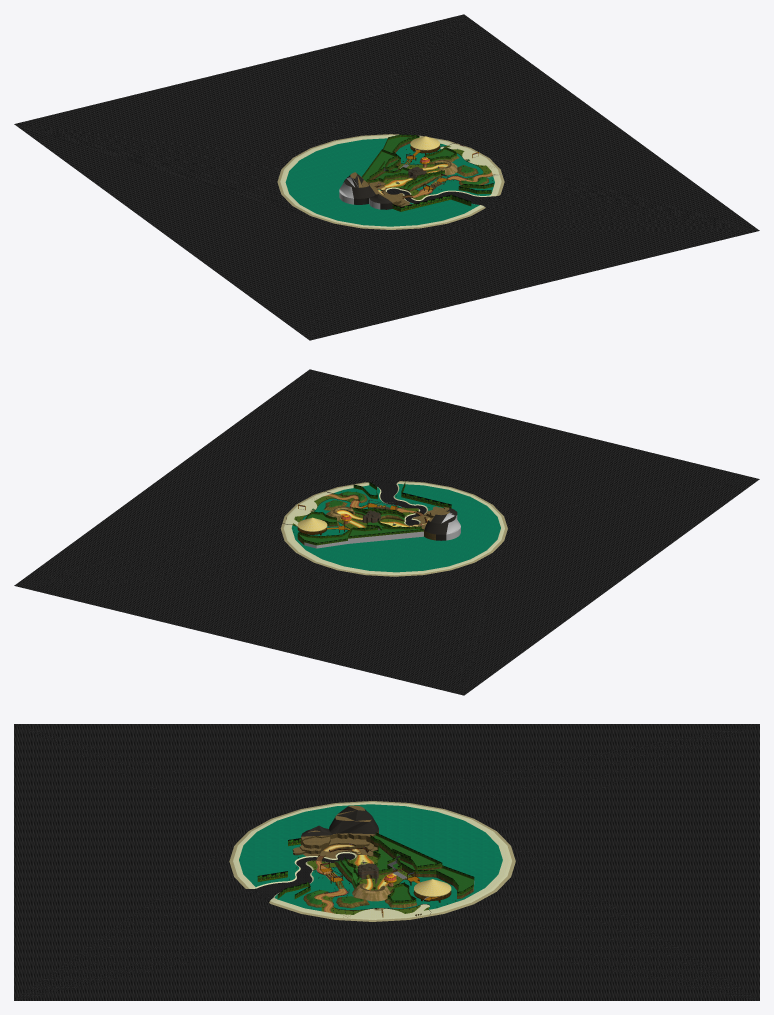
3 renders of one model, top to bottom at view 1: azimuth 30°, elevation 25°; view 2: azimuth 150°, elevation 25°; view 3: azimuth 270°, elevation 25°, orthographic. The views are drawn at different scales.
Parts seen in each view (by area): view 1: Castaway_Isle_Model-GRP-797622-OOB_Water, Castaway_Isle_Model-SKP--OOB_Grass__, Castaway_Isle_Model-SKP--Sand_Road, Castaway_Isle_Model-SKP--Forest_Background, Castaway_Isle_Model-SKP--OOB_BorderGrass, Castaway_Isle_Model-SKP--Sand_Offroad, Castaway_Isle_Model-SKP--Rock_Wall_2, Castaway_Isle_Model-SKP--Cave_Roof, Castaway_Isle_Model-SKP--OOB_Water; view 2: Castaway_Isle_Model-GRP-797622-OOB_Water, Castaway_Isle_Model-SKP--OOB_Grass__, Castaway_Isle_Model-SKP--Sand_Road, Castaway_Isle_Model-SKP--Forest_Background, Castaway_Isle_Model-SKP--Sand_Offroad, Castaway_Isle_Model-SKP--Default_Material, Castaway_Isle_Model-SKP--OOB_BorderGrass, Castaway_Isle_Model-SKP--OOB_Water; view 3: Castaway_Isle_Model-GRP-797622-OOB_Water, Castaway_Isle_Model-SKP--OOB_Grass__, Castaway_Isle_Model-SKP--Sand_Road, Castaway_Isle_Model-SKP--Forest_Background, Castaway_Isle_Model-SKP--OOB_BorderGrass, Castaway_Isle_Model-SKP--Sand_Offroad, Castaway_Isle_Model-SKP--Rock_Wall_2, Castaway_Isle_Model-SKP--Cave_Roof, Castaway_Isle_Model-SKP--Mud_Road, Castaway_Isle_Model-SKP--OOB_Water, Castaway_Isle_Model-SKP--Offroad_Grass, Castaway_Isle_Model-SKP--Rock_Wall (+1 smaller).
Boxes of the visible parts, <box> form: Castaway_Isle_Model-GRP-797622-OOB_Water: <box>14,14,759,340</box>; Castaway_Isle_Model-SKP--OOB_Grass__: <box>285,138,494,226</box>; Castaway_Isle_Model-SKP--Sand_Road: <box>280,135,500,228</box>; Castaway_Isle_Model-SKP--Forest_Background: <box>362,134,493,211</box>; Castaway_Isle_Model-SKP--OOB_BorderGrass: <box>363,137,486,190</box>; Castaway_Isle_Model-SKP--Sand_Offroad: <box>277,134,504,229</box>; Castaway_Isle_Model-SKP--Rock_Wall_2: <box>367,140,489,191</box>; Castaway_Isle_Model-SKP--Cave_Roof: <box>343,168,392,209</box>; Castaway_Isle_Model-SKP--OOB_Water: <box>387,188,499,207</box>; Castaway_Isle_Model-GRP-797622-OOB_Water: <box>14,369,759,695</box>; Castaway_Isle_Model-SKP--OOB_Grass__: <box>291,484,500,572</box>; Castaway_Isle_Model-SKP--Sand_Road: <box>285,482,504,575</box>; Castaway_Isle_Model-SKP--Forest_Background: <box>297,482,451,545</box>; Castaway_Isle_Model-SKP--Sand_Offroad: <box>280,481,507,576</box>; Castaway_Isle_Model-SKP--Default_Material: <box>304,512,460,548</box>; Castaway_Isle_Model-SKP--OOB_BorderGrass: <box>299,491,421,542</box>; Castaway_Isle_Model-SKP--OOB_Water: <box>368,480,426,525</box>; Castaway_Isle_Model-GRP-797622-OOB_Water: <box>14,724,759,1000</box>; Castaway_Isle_Model-SKP--OOB_Grass__: <box>239,804,502,911</box>; Castaway_Isle_Model-SKP--Sand_Road: <box>233,802,511,919</box>; Castaway_Isle_Model-SKP--Forest_Background: <box>257,832,474,903</box>; Castaway_Isle_Model-SKP--OOB_BorderGrass: <box>307,835,473,904</box>; Castaway_Isle_Model-SKP--Sand_Offroad: <box>229,801,515,921</box>; Castaway_Isle_Model-SKP--Rock_Wall_2: <box>303,838,473,908</box>; Castaway_Isle_Model-SKP--Cave_Roof: <box>301,806,399,870</box>; Castaway_Isle_Model-SKP--Mud_Road: <box>293,805,377,858</box>; Castaway_Isle_Model-SKP--OOB_Water: <box>246,853,354,902</box>; Castaway_Isle_Model-SKP--Offroad_Grass: <box>307,856,429,914</box>; Castaway_Isle_Model-SKP--Rock_Wall: <box>292,830,378,856</box>.
Size of the model in its own units: 376252 by 38001 by 428269.
96 materials, 95 textured.
